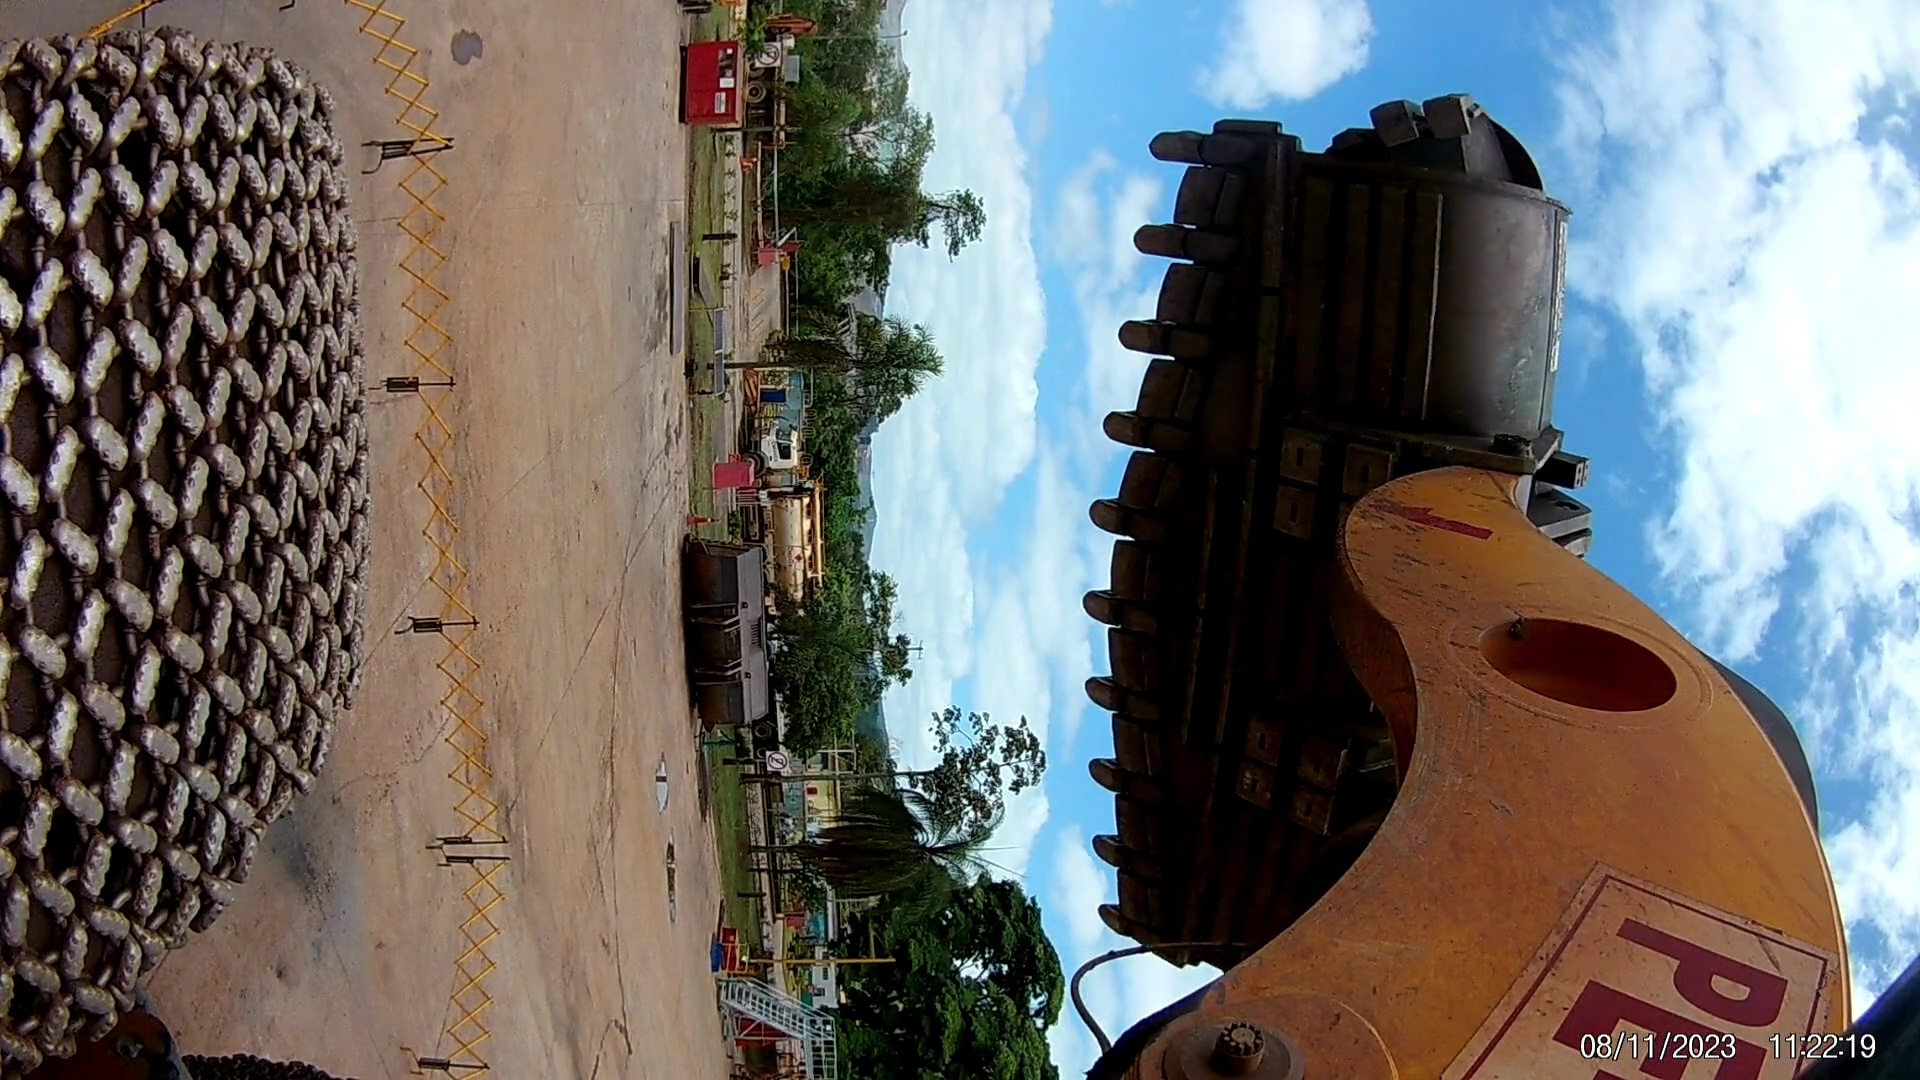FPS: (1120, 210, 1266, 272), (1075, 404, 1204, 467), (1120, 112, 1261, 169), (1068, 757, 1166, 824), (1054, 591, 1174, 645), (1068, 673, 1158, 742), (1101, 322, 1218, 369), (1073, 500, 1170, 555), (1080, 887, 1156, 945), (1085, 833, 1151, 891)
